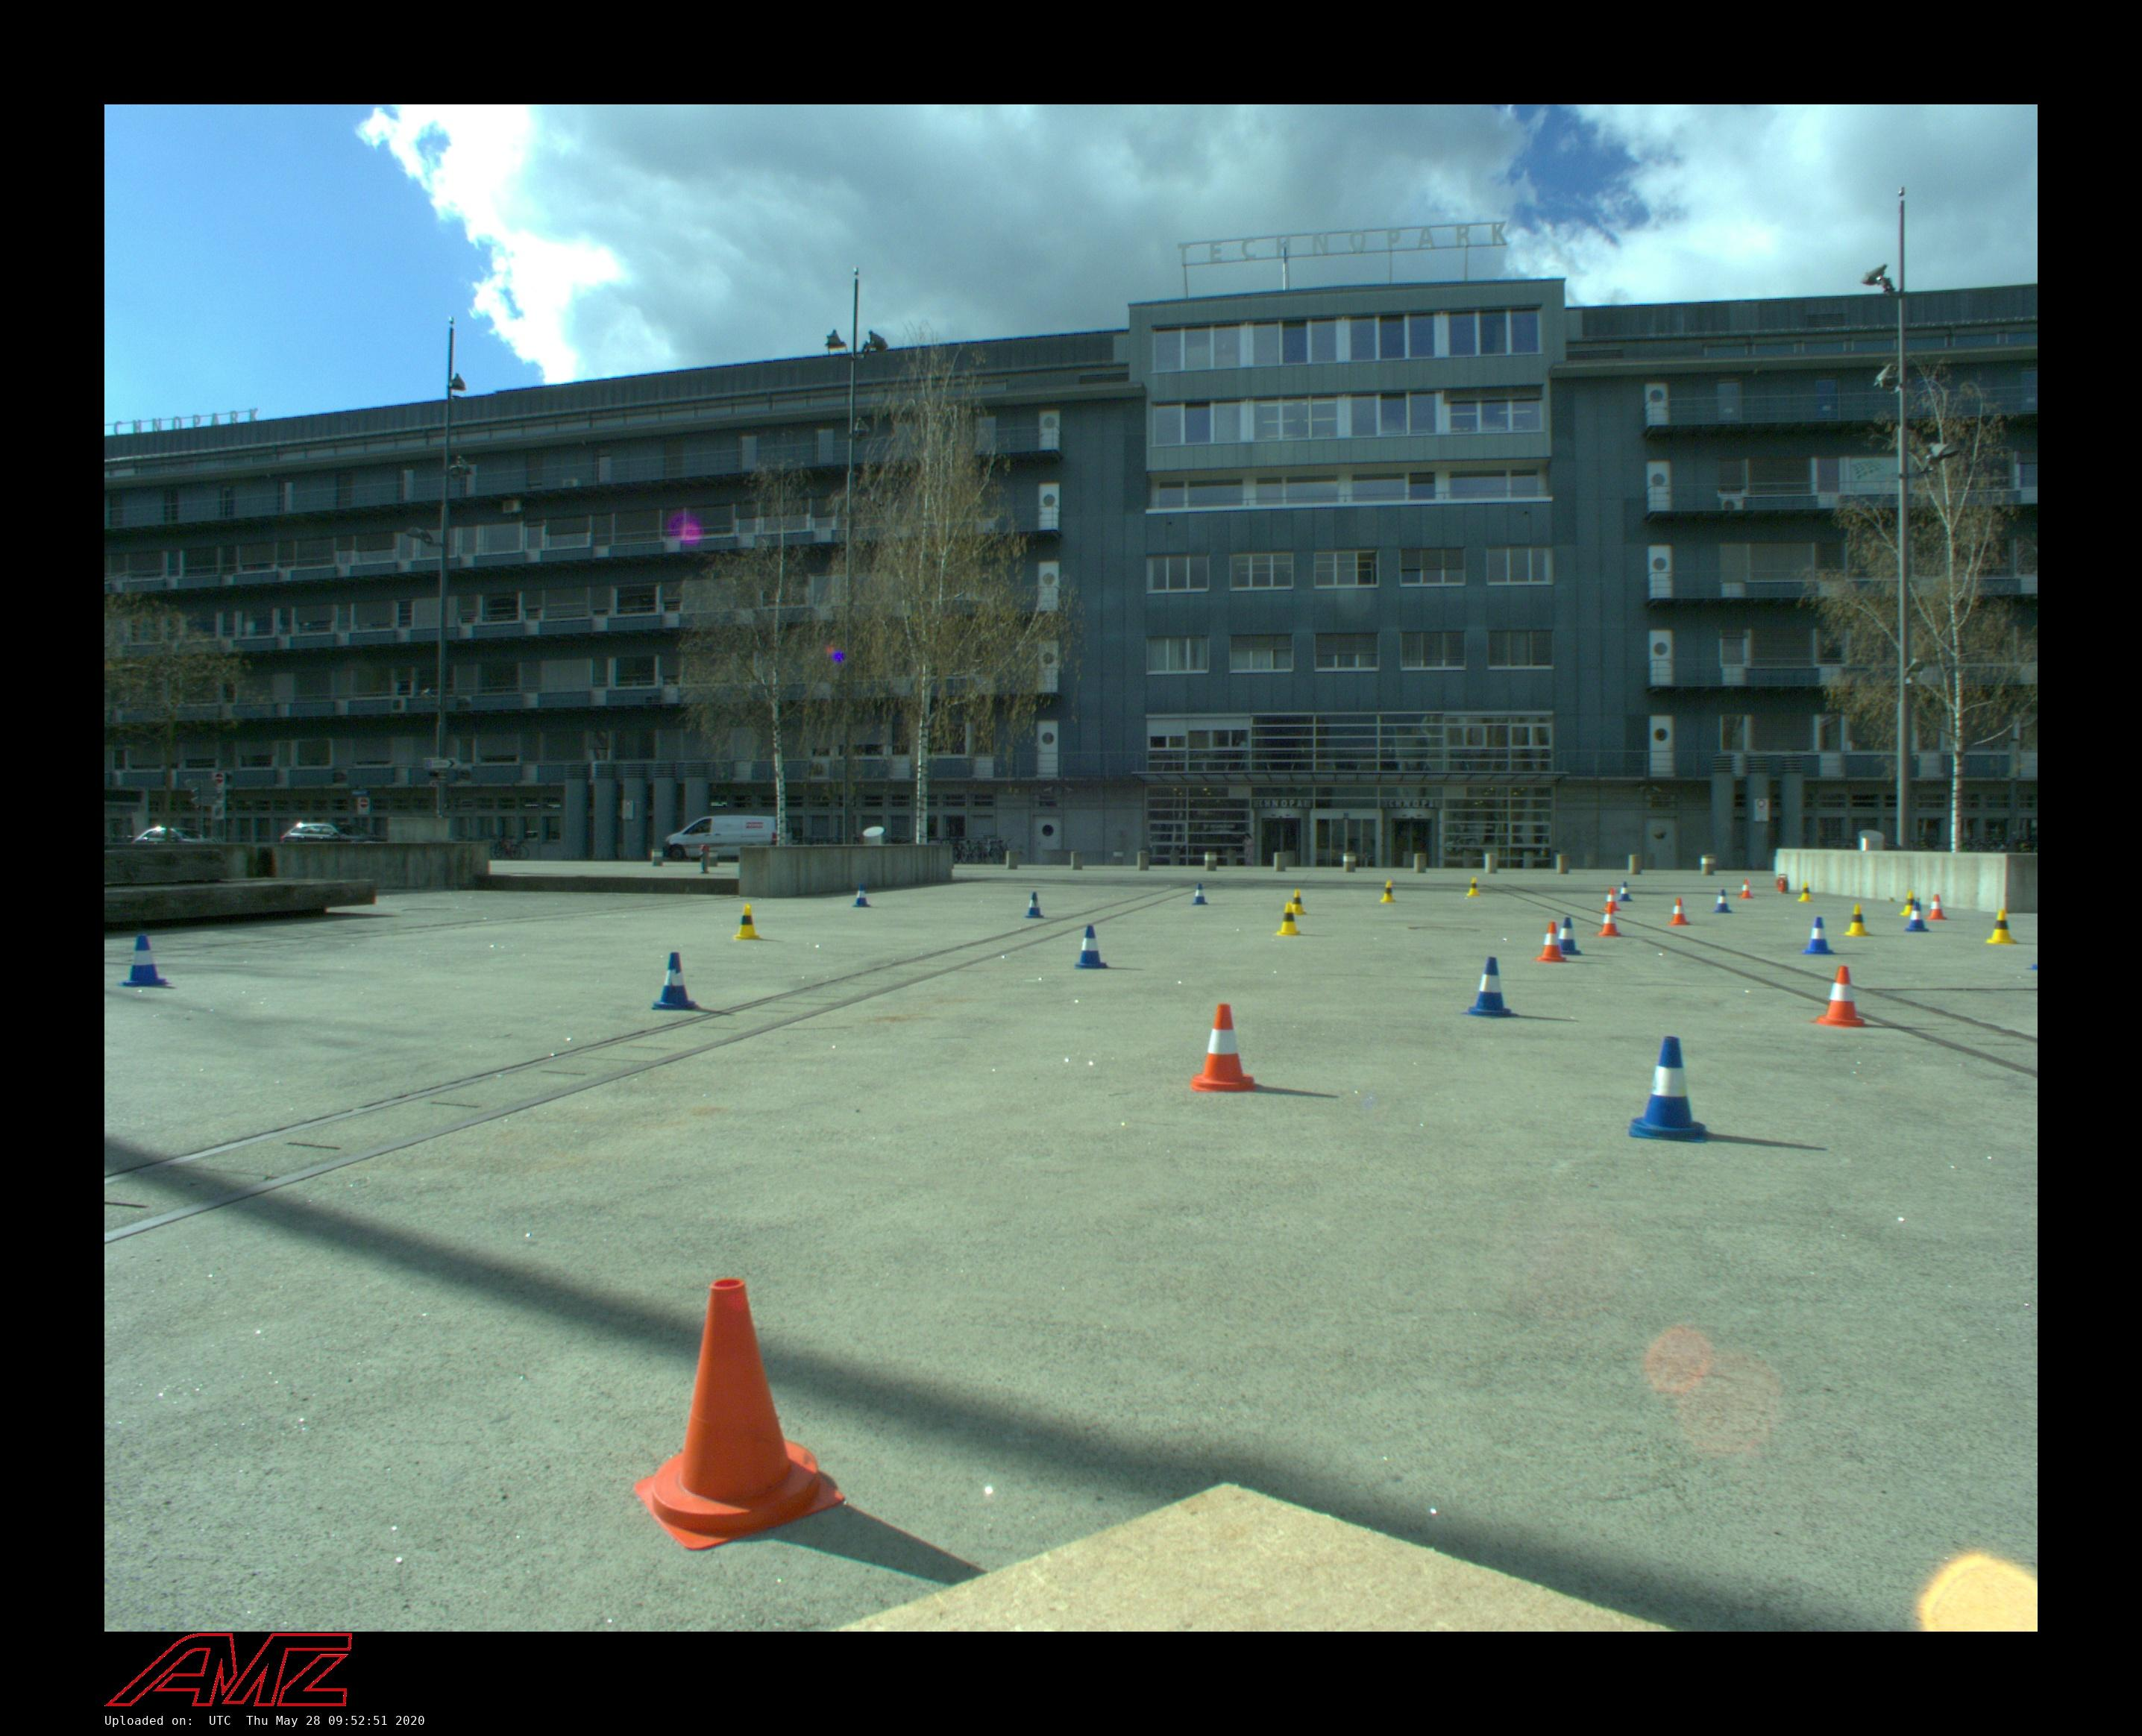blue_cone: (1630, 1036, 1708, 1143), (1460, 957, 1518, 1019), (117, 934, 172, 987), (652, 949, 698, 1010), (1074, 925, 1107, 969), (1802, 916, 1835, 955), (1557, 916, 1582, 955), (1903, 902, 1929, 934), (1024, 891, 1044, 918), (1713, 889, 1733, 914), (852, 886, 872, 907), (1192, 882, 1208, 905), (1618, 882, 1632, 902)
orange_cone: (634, 1275, 847, 1548), (1191, 1004, 1260, 1091), (1809, 964, 1866, 1027), (1531, 921, 1568, 962), (1596, 907, 1621, 937), (1926, 893, 1949, 919), (1669, 898, 1690, 925), (1600, 889, 1621, 911), (1738, 880, 1754, 898)
yellow_cone: (1986, 909, 2018, 944), (733, 903, 762, 939), (1841, 905, 1871, 937), (1274, 902, 1300, 937), (1292, 889, 1306, 916), (1380, 880, 1396, 903), (1901, 891, 1915, 916), (1797, 882, 1814, 902), (1467, 877, 1481, 896)
